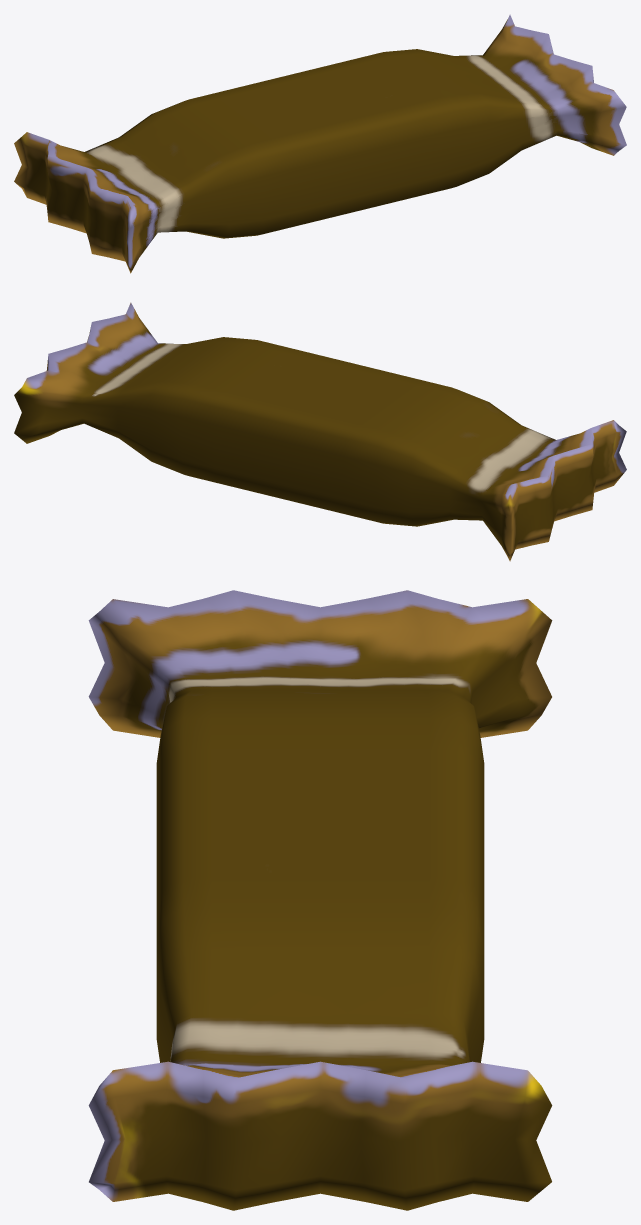
Rendered from chocbar.fbx.
The picture shows the model from 3 angles, top to bottom: view 1: azimuth 30°, elevation 25°; view 2: azimuth 150°, elevation 25°; view 3: azimuth 270°, elevation 25°; orthographic projection. The views are drawn at different scales.
Parts seen in each view (by area): view 1: pCube3; view 2: pCube3; view 3: pCube3.
Boxes of the visible parts, left/top/right/bottom form: pCube3: left=14, top=14, right=626, bottom=273; pCube3: left=14, top=302, right=626, bottom=561; pCube3: left=88, top=590, right=552, bottom=1210.
Size of the model in its own units: 4.1 by 0.6713 by 1.64.
